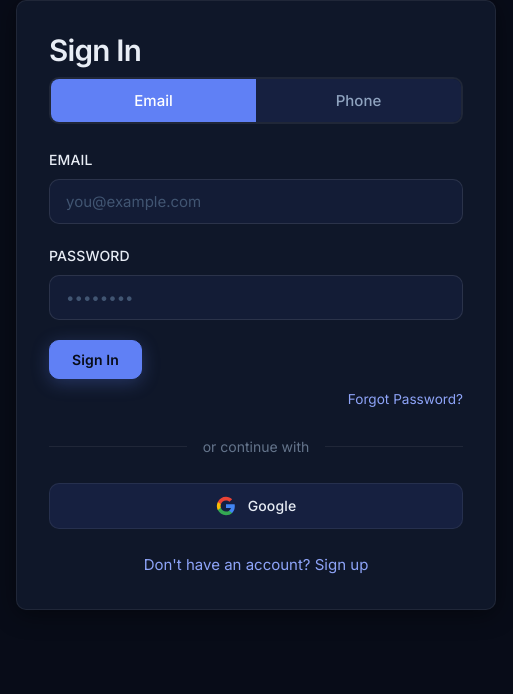
it: Login Page › Google OAuth › shows error when Google sign-in fails
Click the button "Google". click: x=256, y=506
box: [49, 482, 463, 528]
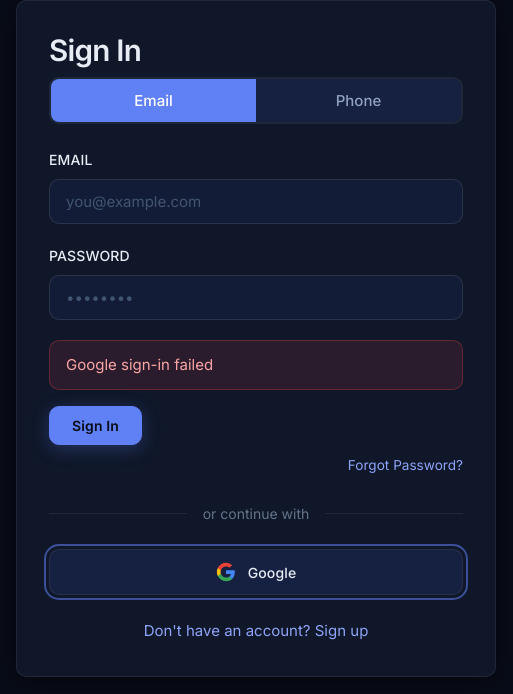
Check: the message reads "Google sign-in failed", box [66, 355, 213, 374]
